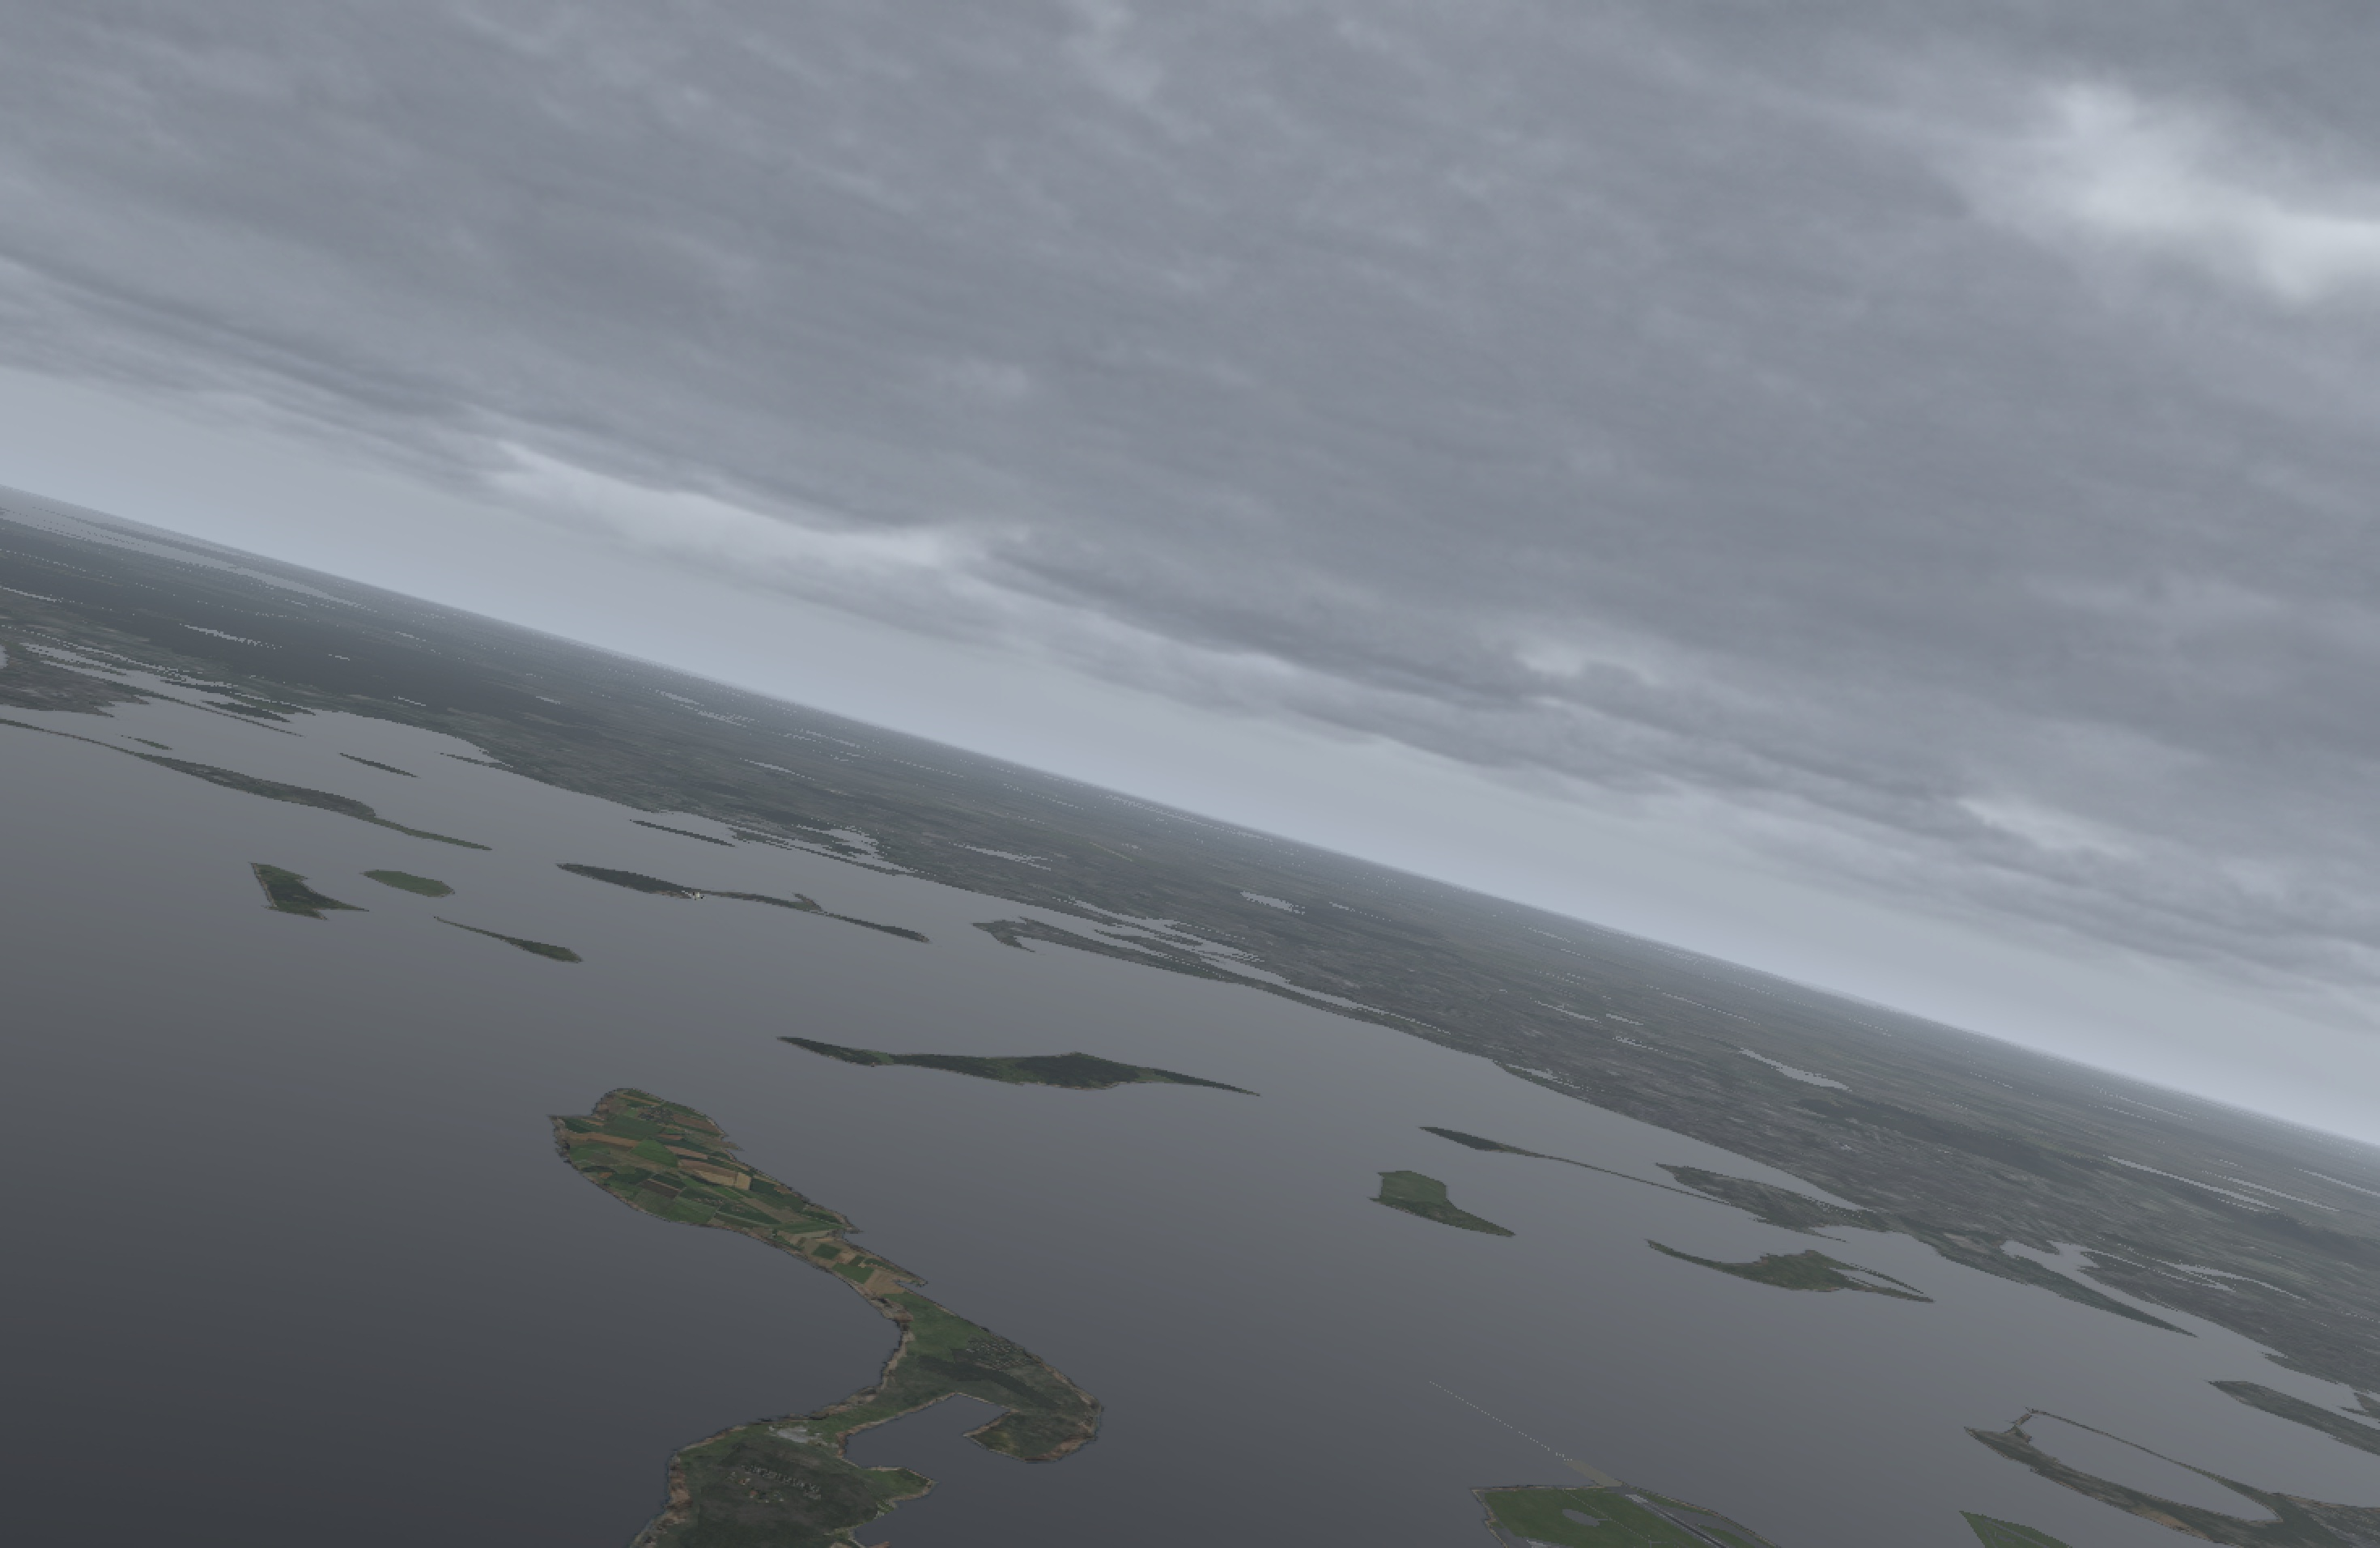aircraft: (680, 890, 715, 904)
